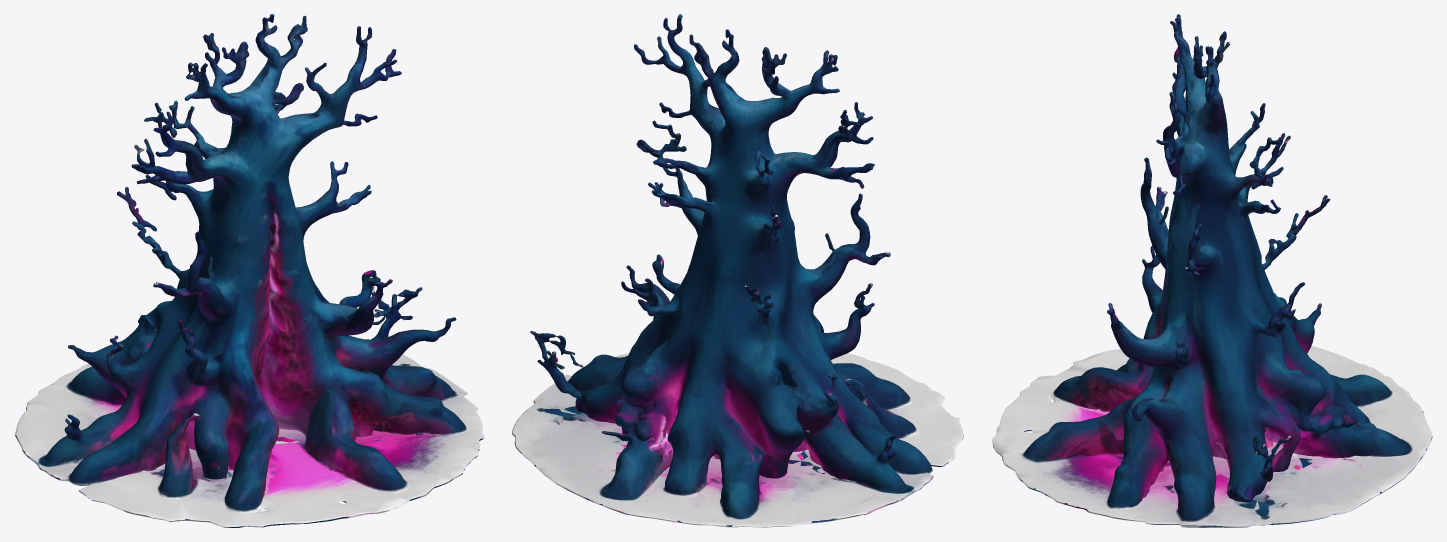
File: sea-root-ne-generated-2026-05-17T19-41-00-695Z.high.glb
3 renders of one model, left to right at view 1: azimuth 30°, elevation 25°; view 2: azimuth 150°, elevation 25°; view 3: azimuth 270°, elevation 25°, orthographic. The views are drawn at different scales.
Visible parts, largest first — view 1: temp_mesh.ply; view 2: temp_mesh.ply; view 3: temp_mesh.ply.
Boxes of the visible parts, <box> form: temp_mesh.ply: <box>14,14,483,527</box>; temp_mesh.ply: <box>512,14,963,527</box>; temp_mesh.ply: <box>992,14,1432,527</box>.
Bounding box in the file's own units: 1.96 × 1.96 × 1.96.
1 material, 1 textured.
